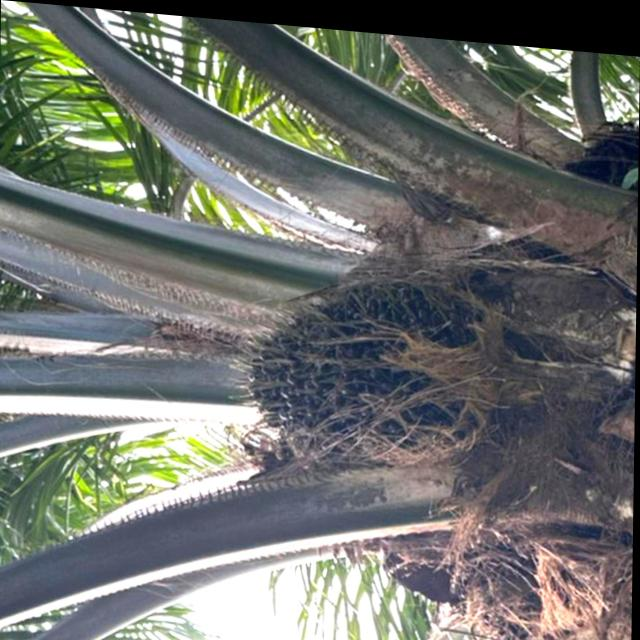almost: (219, 243, 483, 477)
